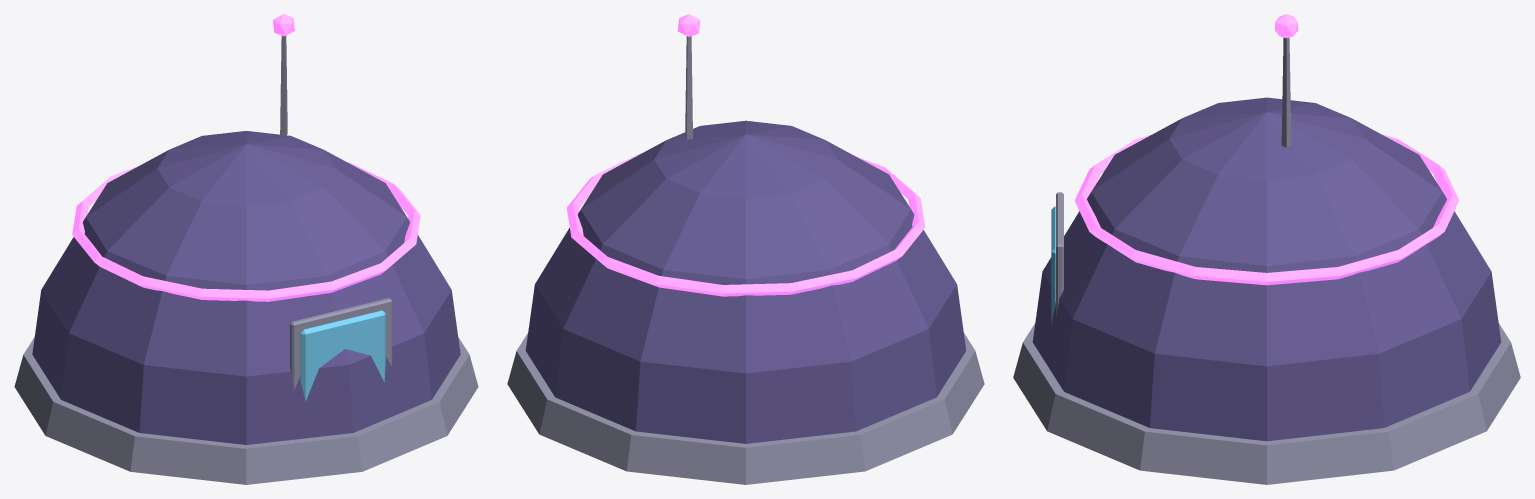
File: Alien_Dome_Hut.glb
The picture shows the model from 3 angles, left to right: view 1: azimuth 30°, elevation 25°; view 2: azimuth 150°, elevation 25°; view 3: azimuth 270°, elevation 25°; orthographic projection. The views are drawn at different scales.
Parts seen in each view (by area): view 1: Alien_Dome_Hut; view 2: Alien_Dome_Hut; view 3: Alien_Dome_Hut.
Part boxes in pixels (x1,y1,x2,y2): Alien_Dome_Hut: (14, 14, 478, 484); Alien_Dome_Hut: (507, 14, 984, 484); Alien_Dome_Hut: (1013, 14, 1520, 484).
Bounding box in the file's own units: 5.2 × 4.39 × 5.2.
1 material, 1 textured.
